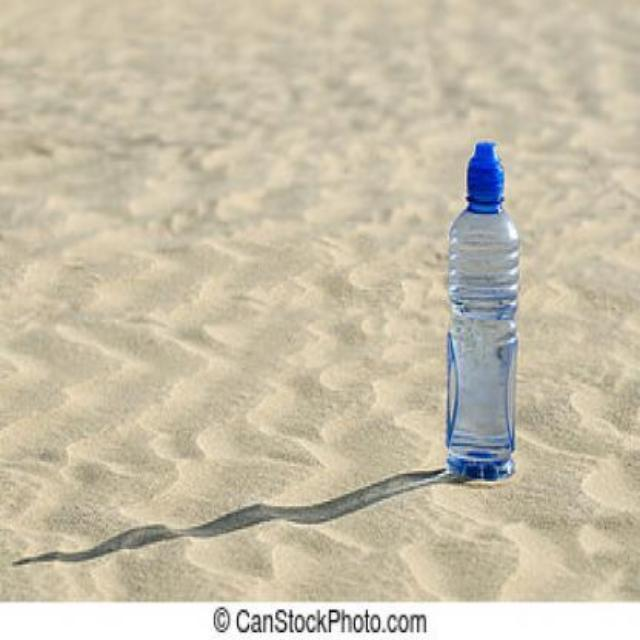bottle: (438, 139, 526, 497)
